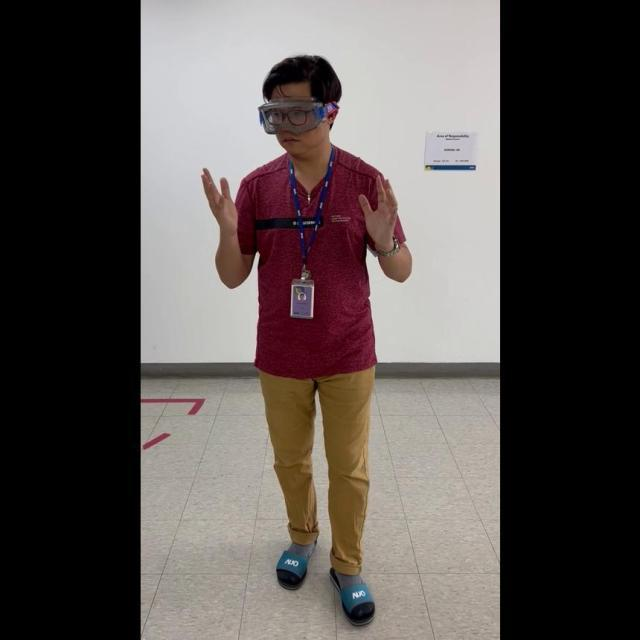bare_hand: (356, 170, 403, 255), (198, 161, 239, 235)
